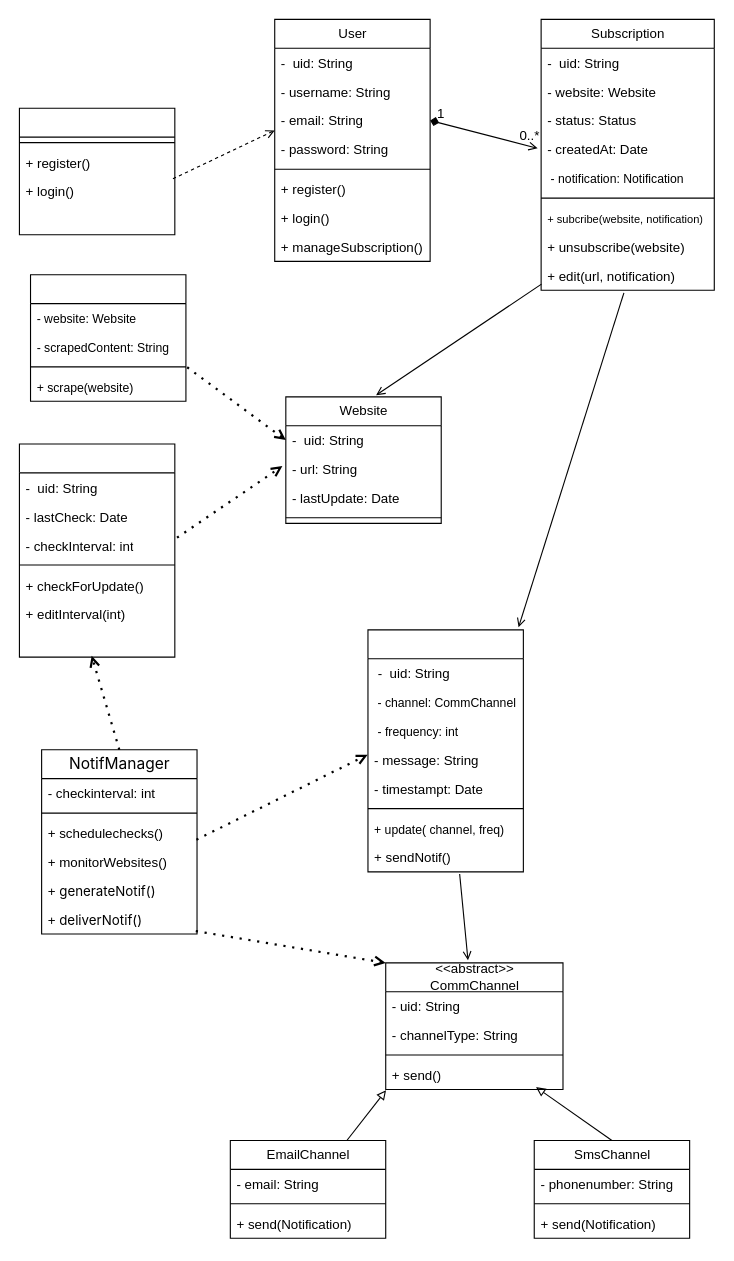
Image size: 734x1261. Some labels were removed from this diagram. Here are the shapes that lost their labels. From the top down, the box of each, then its label:
(18, 107, 175, 235): UI
(29, 274, 186, 401): WebsiteScraper
(18, 443, 175, 657): WebSiteMonitoring
(367, 629, 523, 872): Notification
